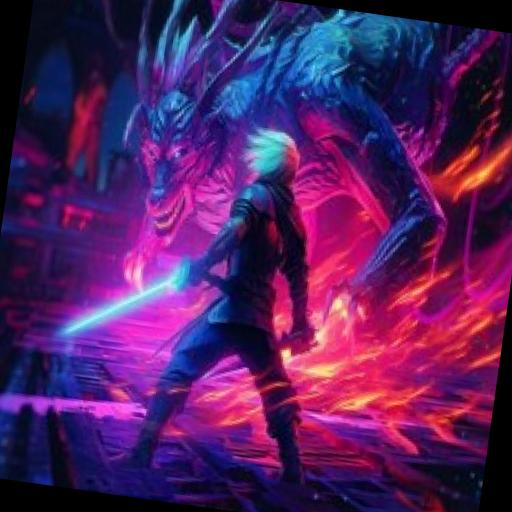human: (100, 114, 357, 498)
lightsaber: (60, 244, 198, 359)
